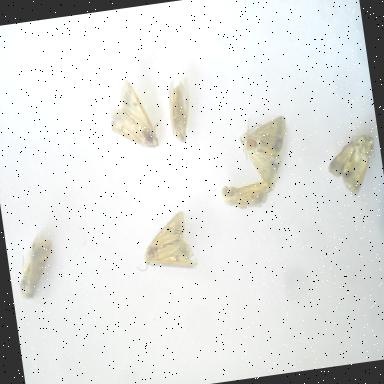abw: (126, 206, 201, 281), (232, 109, 296, 194), (100, 72, 164, 156), (320, 126, 384, 202), (6, 226, 63, 304), (161, 69, 204, 147), (216, 173, 276, 217)
